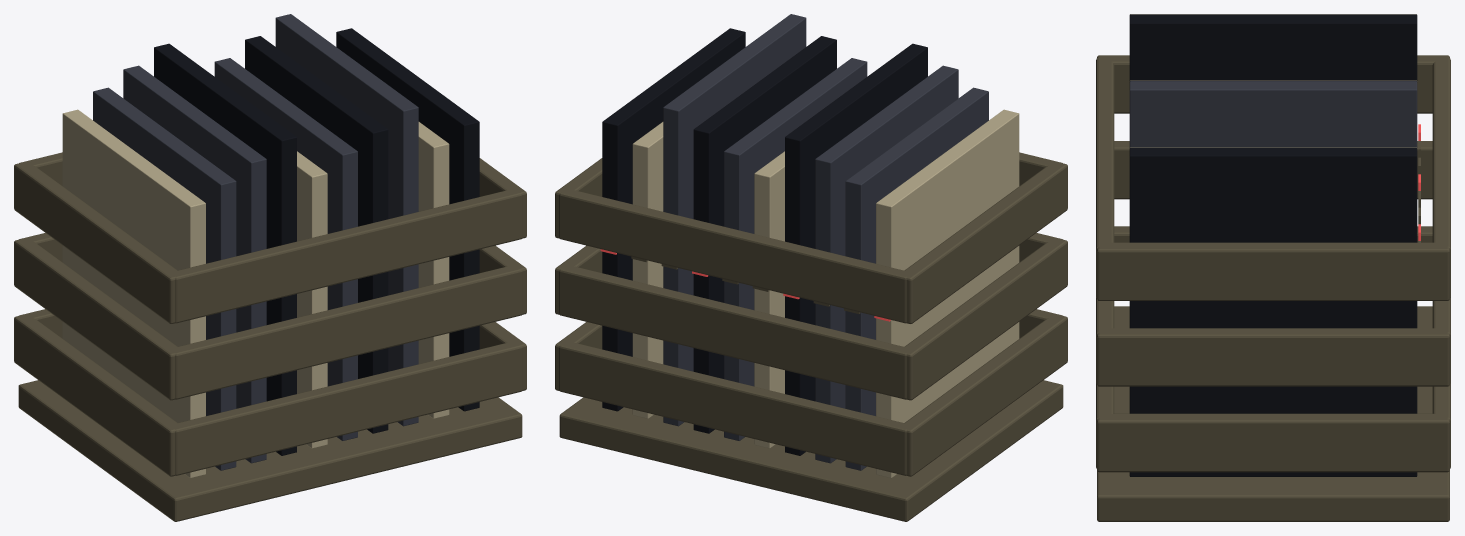
File: record_crate.glb
The picture shows the model from 3 angles, left to right: view 1: azimuth 30°, elevation 25°; view 2: azimuth 150°, elevation 25°; view 3: azimuth 270°, elevation 25°; orthographic projection. The views are drawn at different scales.
Parts seen in each view (by area): view 1: record_crate; view 2: record_crate; view 3: record_crate.
Part boxes in pixels (left/top/right/bottom): record_crate: left=14, top=14, right=526, bottom=521; record_crate: left=555, top=14, right=1067, bottom=521; record_crate: left=1096, top=14, right=1450, bottom=521.
Bounding box in the file's own units: 0.564 × 0.516 × 0.432.
